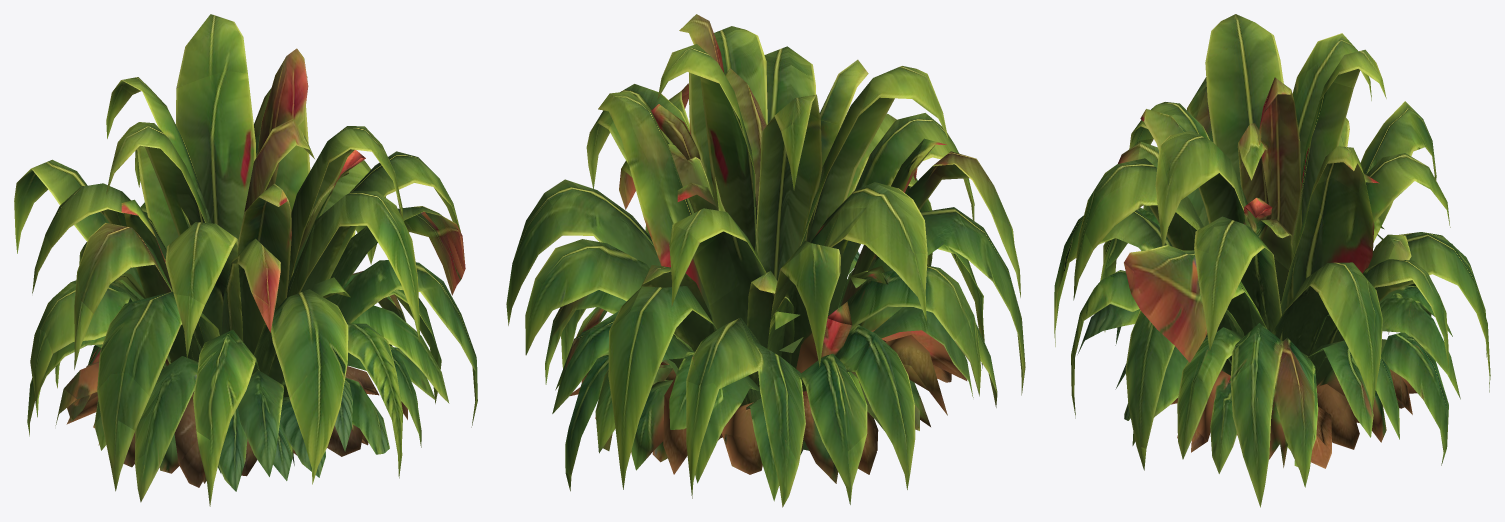
The model's file is redfern.glb.
3 renders of one model, left to right at view 1: azimuth 30°, elevation 25°; view 2: azimuth 150°, elevation 25°; view 3: azimuth 270°, elevation 25°, orthographic. The views are drawn at different scales.
Visible parts, largest first — view 1: redfern; view 2: redfern; view 3: redfern.
Part boxes in pixels (<box>): redfern: <box>14,14,477,506</box>; redfern: <box>506,14,1025,507</box>; redfern: <box>1054,14,1490,507</box>.
Bounding box in the file's own units: 1 × 1 × 1.
1 material, 1 textured.
